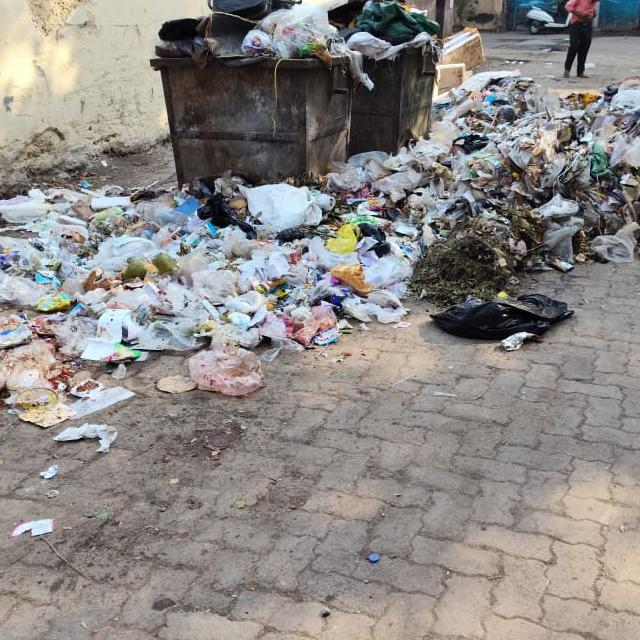metal: (158, 62, 350, 179), (354, 52, 428, 154)
plastic: (172, 332, 287, 397), (0, 225, 77, 313), (36, 407, 132, 463), (233, 181, 335, 231), (357, 542, 390, 573)
